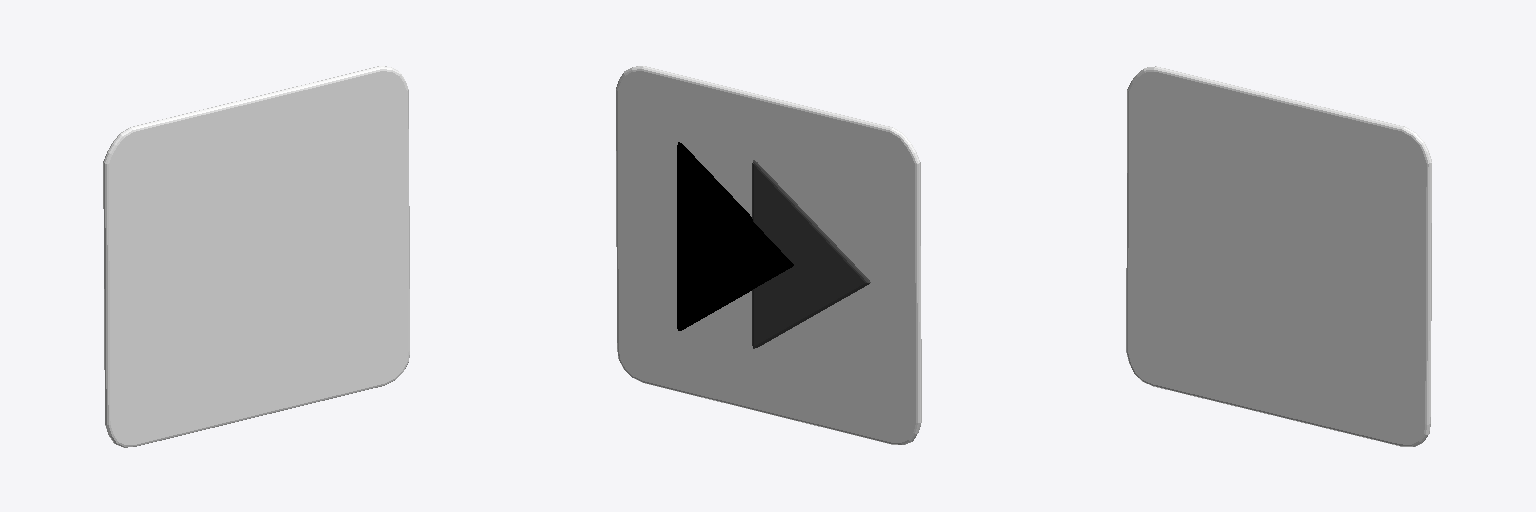
File: c2691854-a926-4c7f-ac42-6ffa98859333.obj
3 views of the same model, side by side, from view 1: azimuth 30°, elevation 25°; view 2: azimuth 150°, elevation 25°; view 3: azimuth 330°, elevation 25° (orthographic).
Visible parts, largest first — view 1: p.0469; view 2: p.0469, p.0472, p.0471; view 3: p.0469.
Part boxes in pixels (x1,y1,x2,y2): p.0469: (103,66,409,447); p.0469: (616,66,921,444); p.0472: (677,142,793,330); p.0471: (752,160,870,348); p.0469: (1126,66,1431,446).
Size of the model in its own units: 0.6134 by 0.6144 by 0.026.